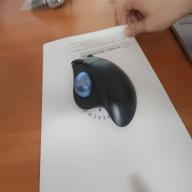mouse: (60, 44, 147, 134)
